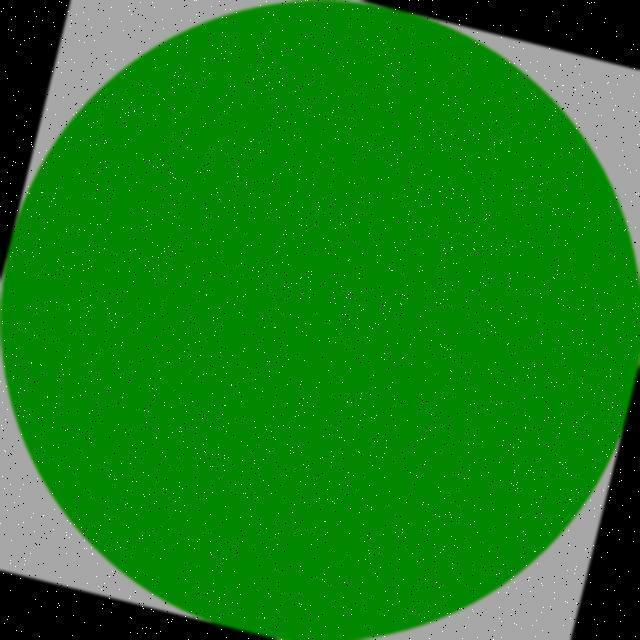Circle: (0, 11, 639, 636)
